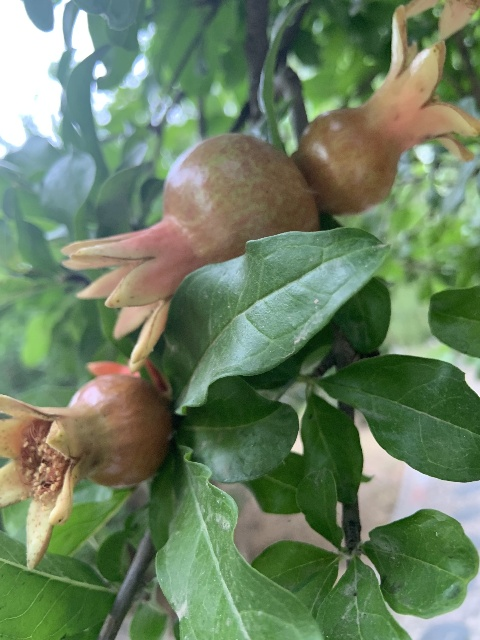early-fruit: (61, 134, 313, 372), (296, 3, 478, 219), (0, 370, 172, 571)
